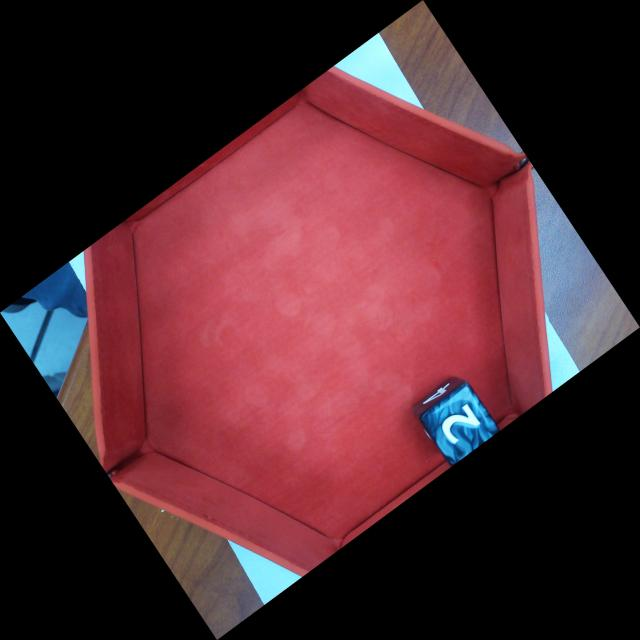dice: (418, 381, 500, 467)
